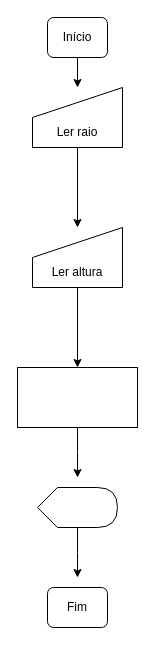
Image size: 155x645. Some labels were removed from this diagram. Each missing label, with the centre of its shape:
"volume" belongs at (x=77, y=507).
"volume = 3,14159 * raio * raio * altura" belongs at (x=77, y=397).
